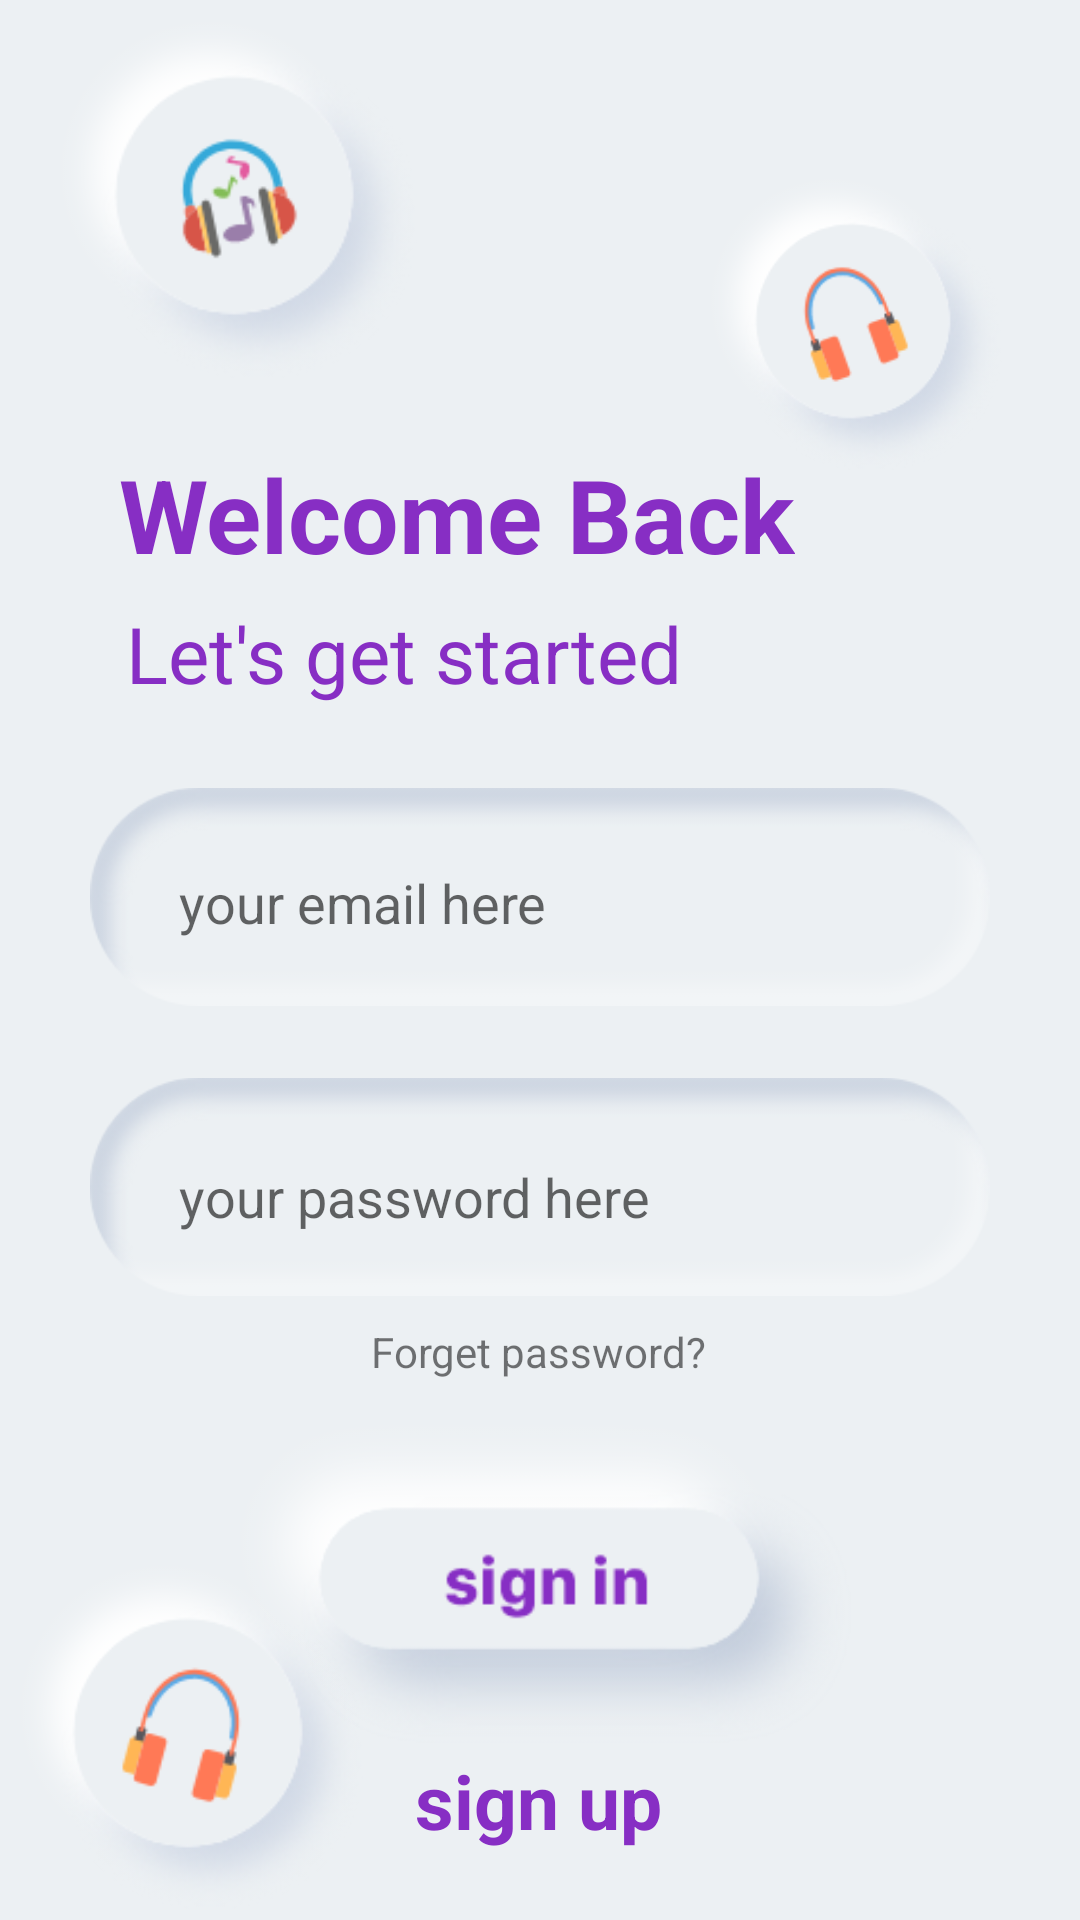

Icons on this 1080x1920 Android screen, each with the point to tap as (x,y):
headphone: (266,225), (876,341), (213,1758)
